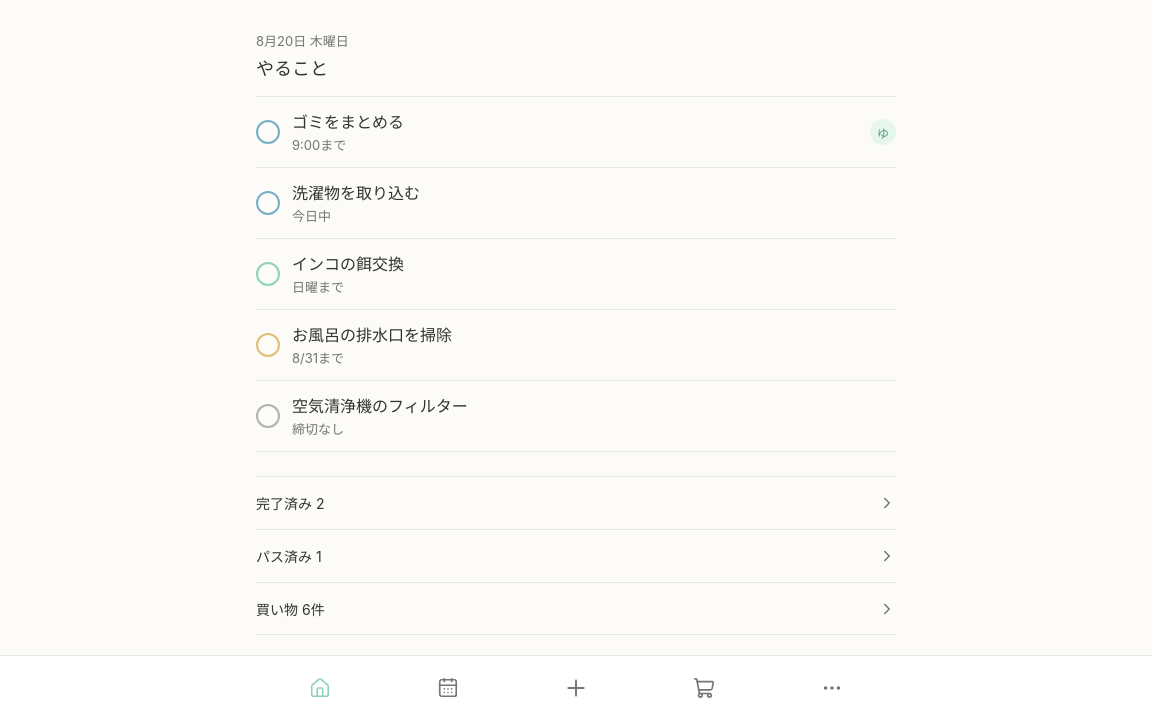
Test: hash routing › opens and closes the two-choice Add action sheet without changing route
This screenshot has width=1152, height=720.
Click the button named "追加" at [576, 688], box x1=554 y1=666 x2=598 y2=710
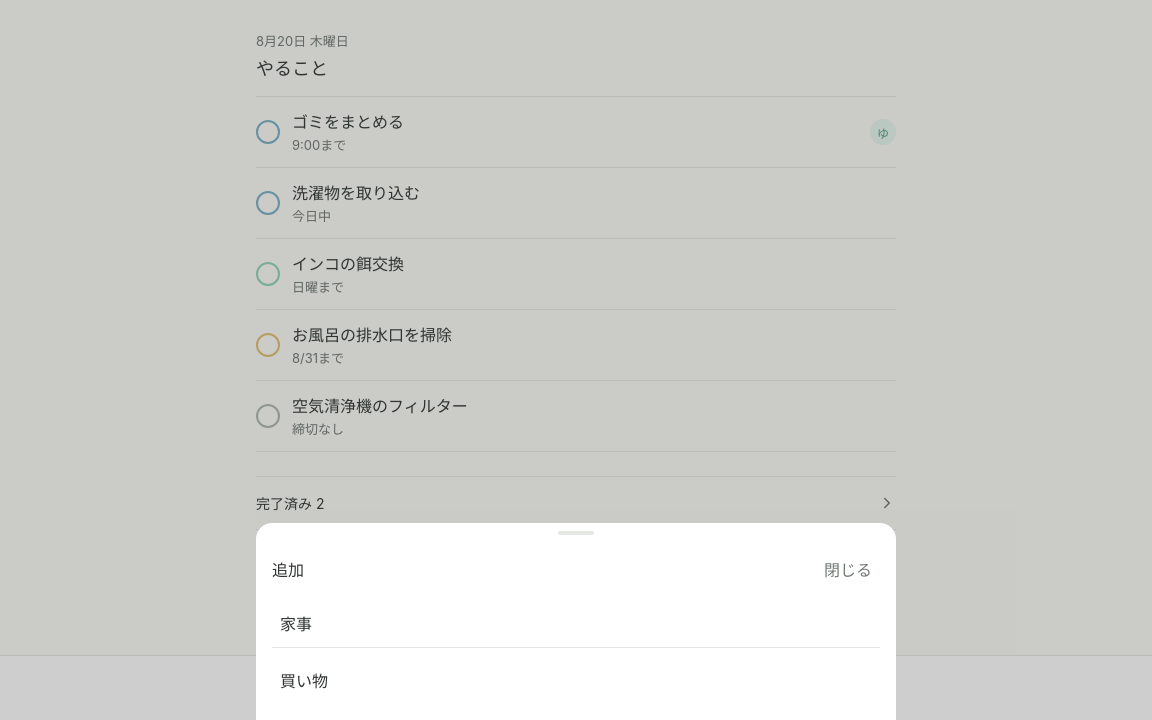
Check: the dialog "追加" is shown, box x1=256 y1=523 x2=896 y2=719
Check: the button "家事" is shown, box x1=272 y1=599 x2=880 y2=648
Check: the button "買い物" is shown, box x1=272 y1=656 x2=880 y2=704
Click the button "閉じる" at [848, 569], box x1=816 y1=547 x2=880 y2=591
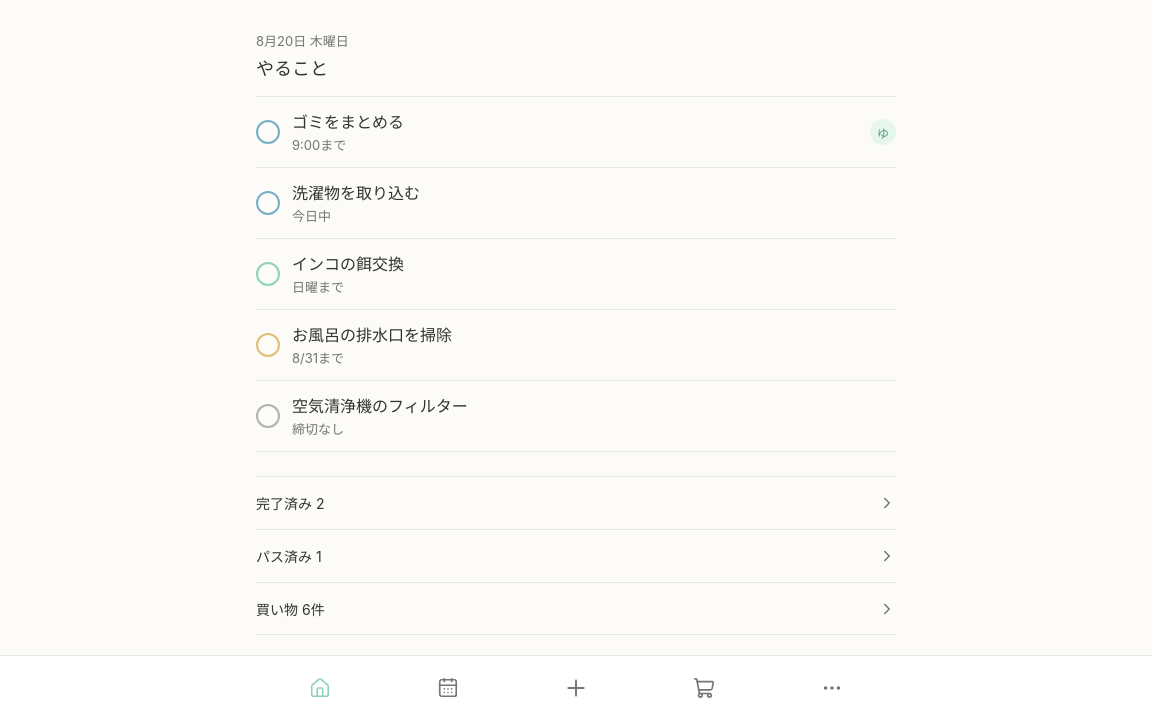
Check: the heading "やること" is shown, box x1=256 y1=58 x2=328 y2=79
Check: the heading "追加" is gone
